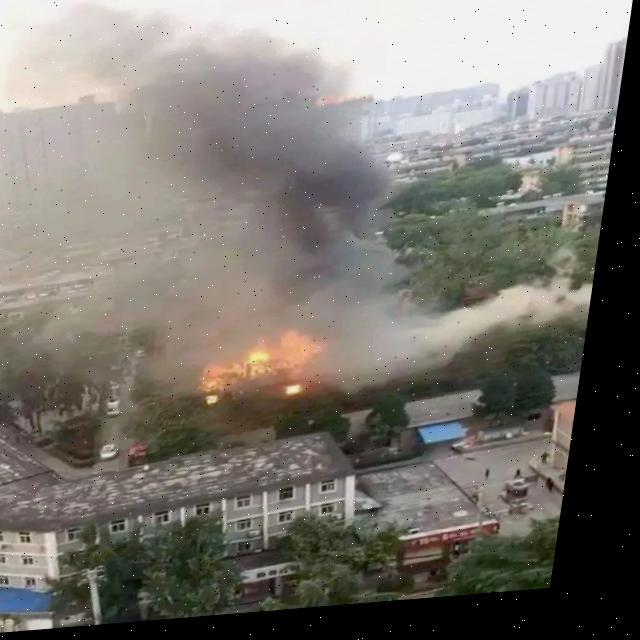Fire: (202, 336, 340, 421)
